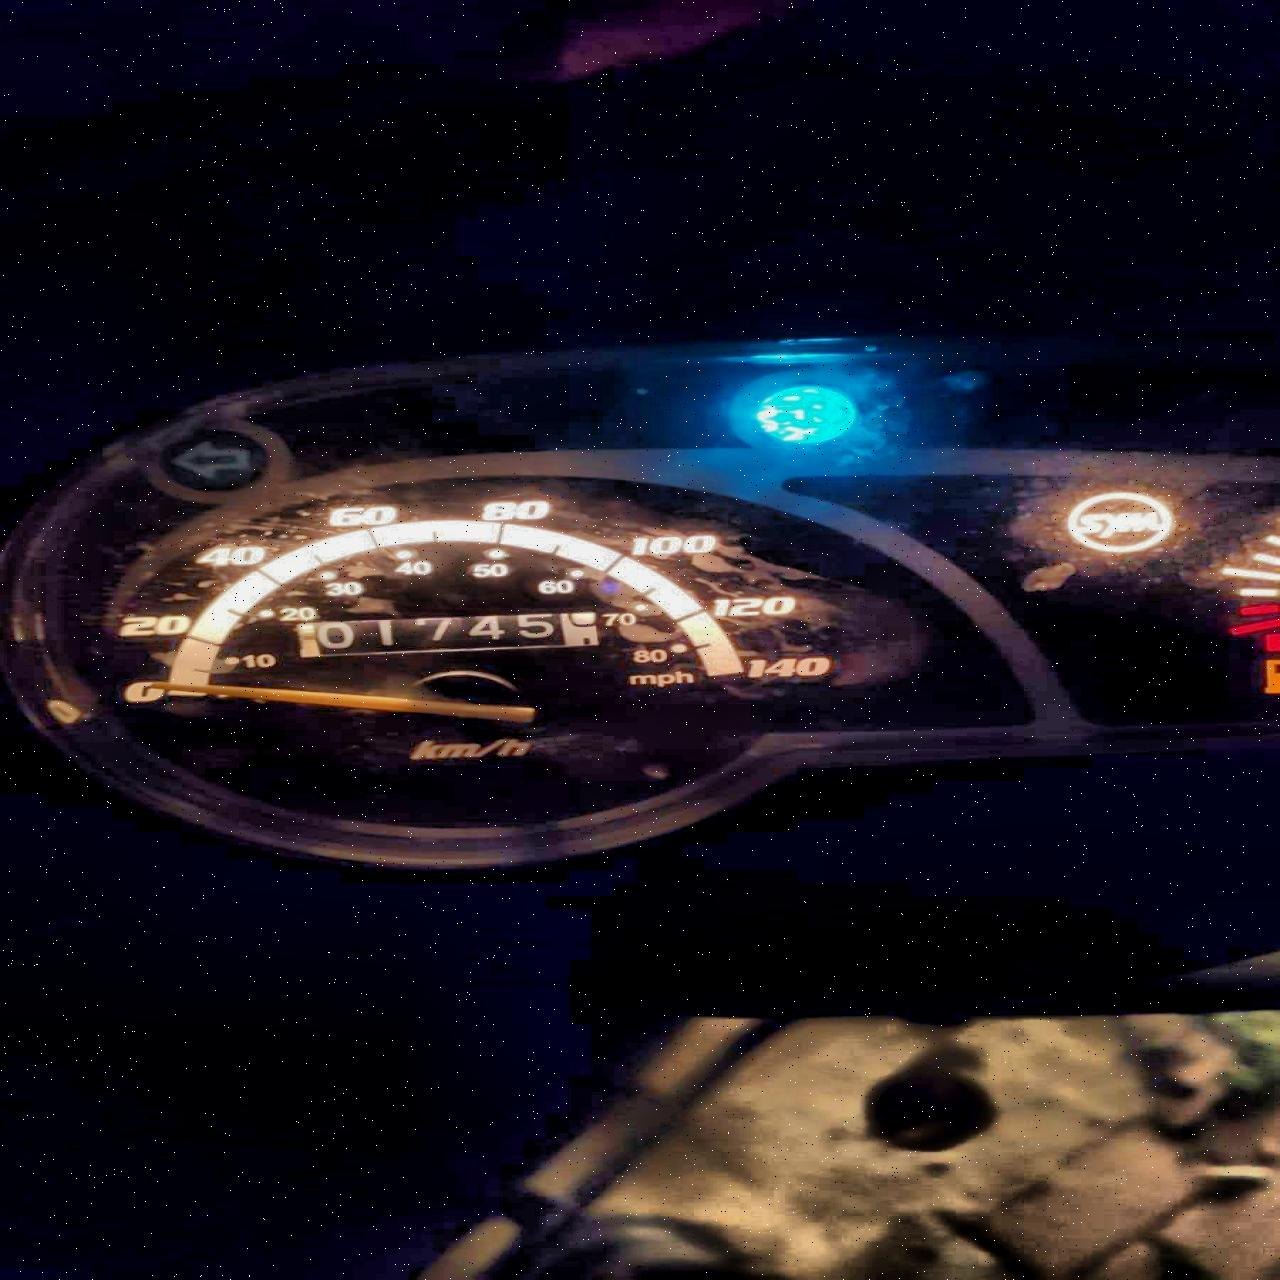0: (313, 621, 355, 649), (566, 611, 596, 628), (297, 607, 316, 620)
1: (368, 618, 400, 648)
2: (289, 608, 297, 621)
4: (465, 614, 505, 640)
5: (514, 613, 554, 638)
7: (411, 618, 451, 642)
odometer: (289, 607, 603, 659)
